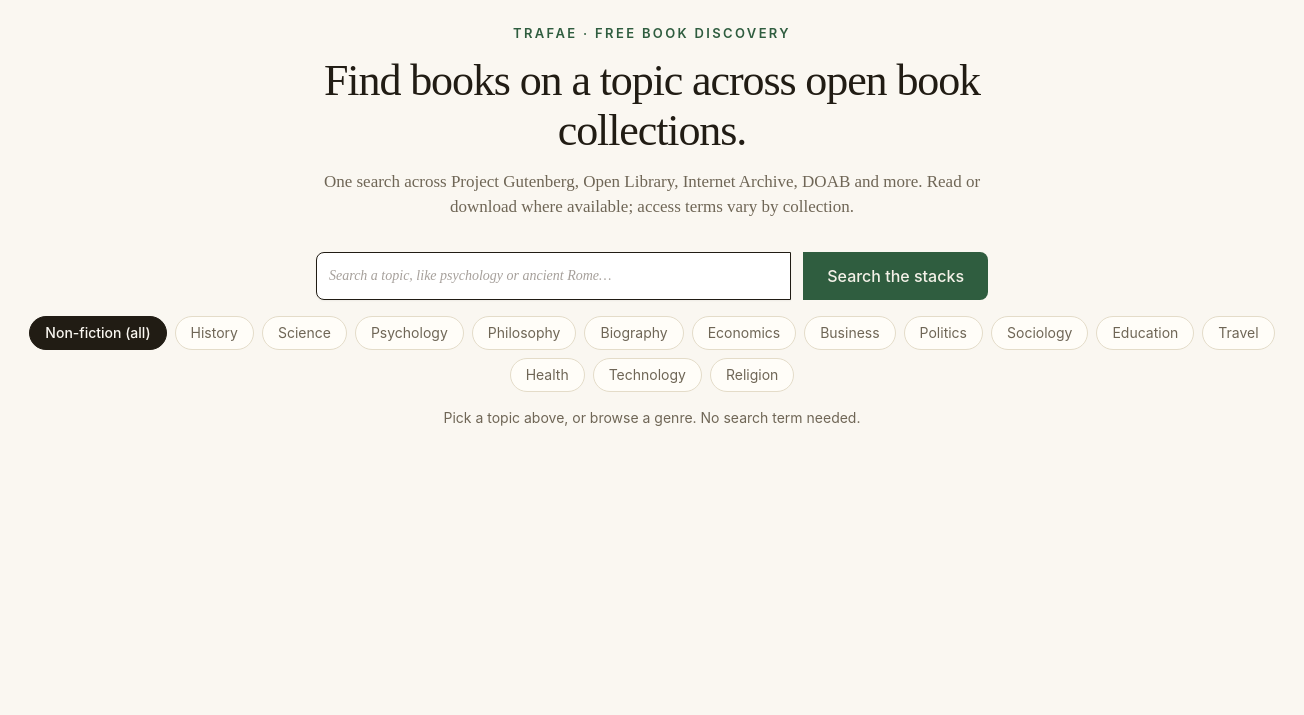
Test case: keeps partial results and explains failed and skipped catalogs
Type "psychology" into the field with placeholder "Search a topic, like psychology or ancient Rome…" at (554, 276), box [316, 252, 791, 300]
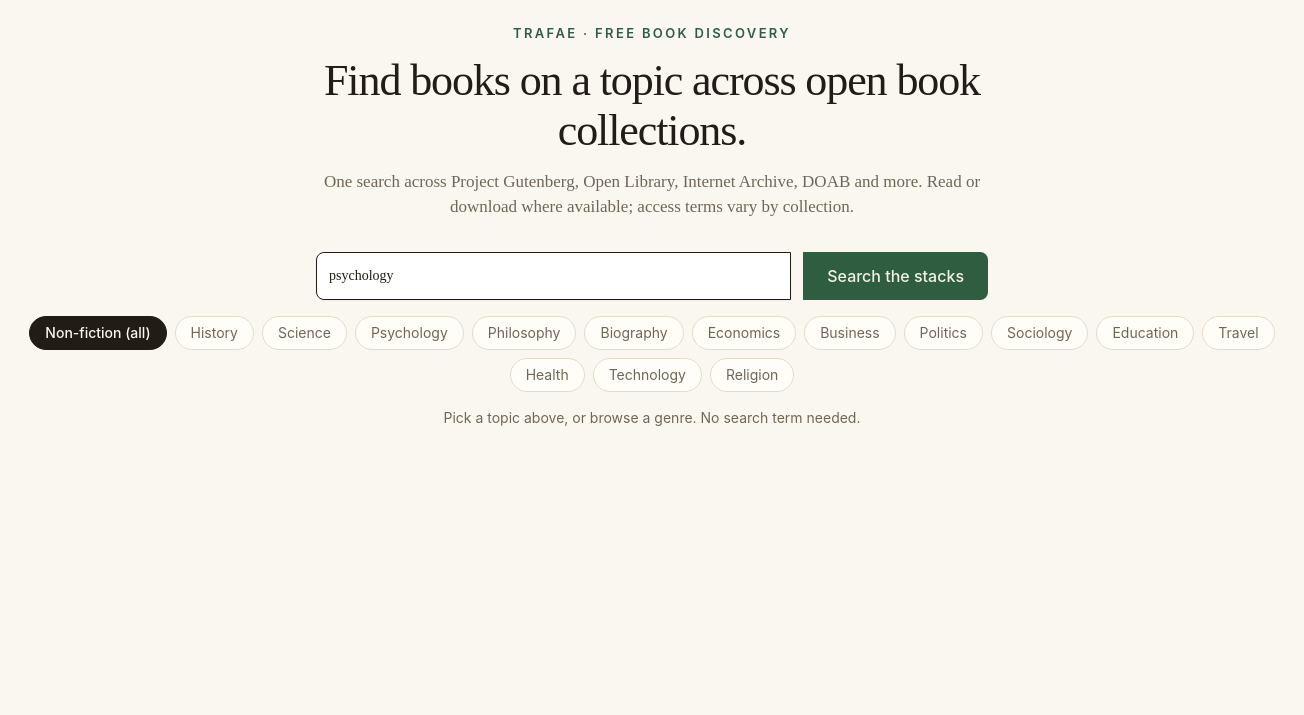
Click the button "Search the stacks" at (896, 276), box [803, 252, 988, 300]
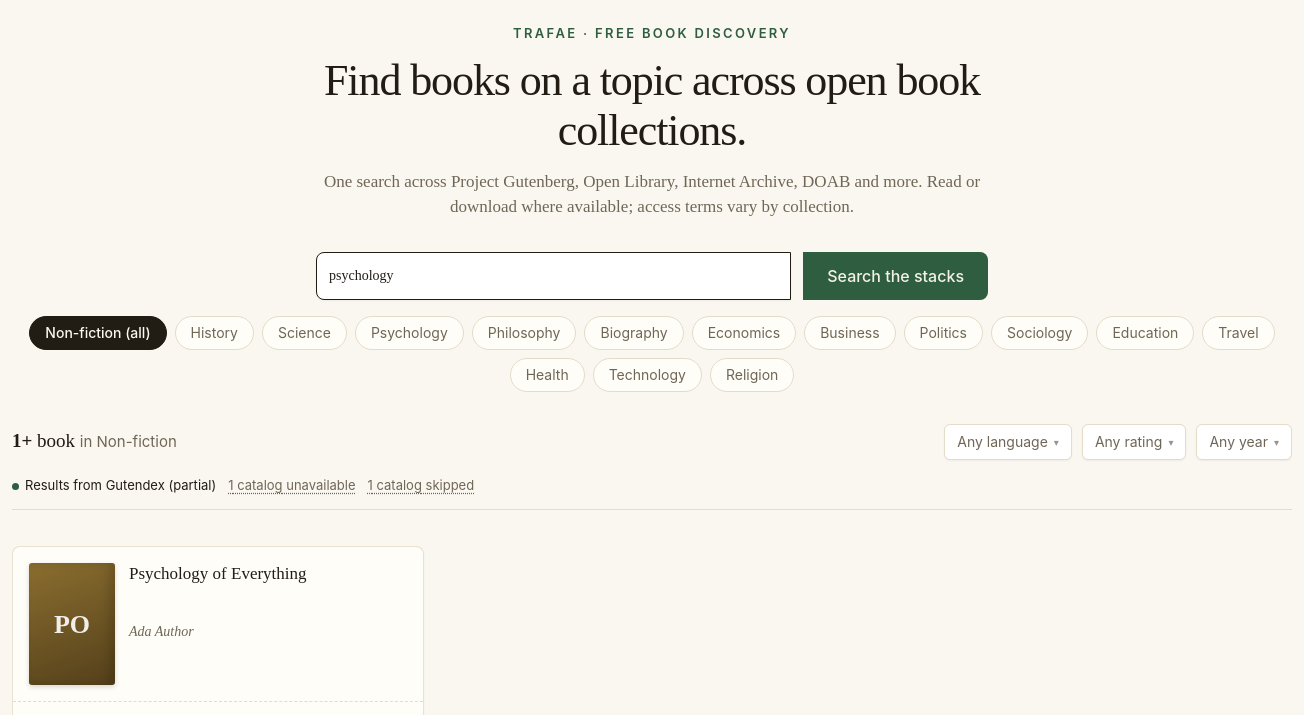
Check: the heading "Psychology of Everything" is shown, box [129, 564, 306, 583]
Check: the text "Results from Gutendex (partial)" is shown, box [12, 476, 216, 495]
Check: the heading "1 catalog unavailable" is shown, box [228, 476, 356, 495]
